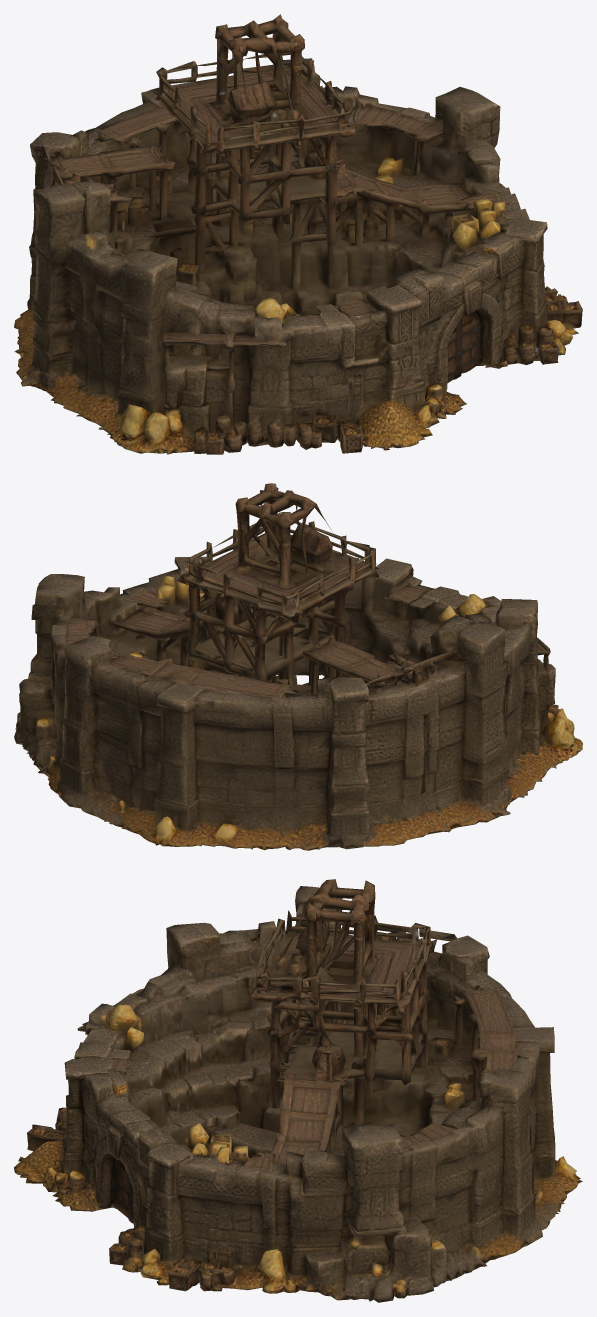
The model's file is gold-mine.glb.
3 views of the same model, one above another, from view 1: azimuth 30°, elevation 25°; view 2: azimuth 150°, elevation 25°; view 3: azimuth 270°, elevation 25° (orthographic). The views are drawn at different scales.
Visible parts, largest first — view 1: tripo_node_5e1cc76a-68f1-42f8-88e1-b4410129093a; view 2: tripo_node_5e1cc76a-68f1-42f8-88e1-b4410129093a; view 3: tripo_node_5e1cc76a-68f1-42f8-88e1-b4410129093a.
Boxes of the visible parts, <box> form: tripo_node_5e1cc76a-68f1-42f8-88e1-b4410129093a: <box>14,14,582,454</box>; tripo_node_5e1cc76a-68f1-42f8-88e1-b4410129093a: <box>14,483,582,850</box>; tripo_node_5e1cc76a-68f1-42f8-88e1-b4410129093a: <box>14,879,582,1302</box>.
Size of the model in its own units: 1 by 0.5544 by 0.9917.
1 material, 1 textured.
